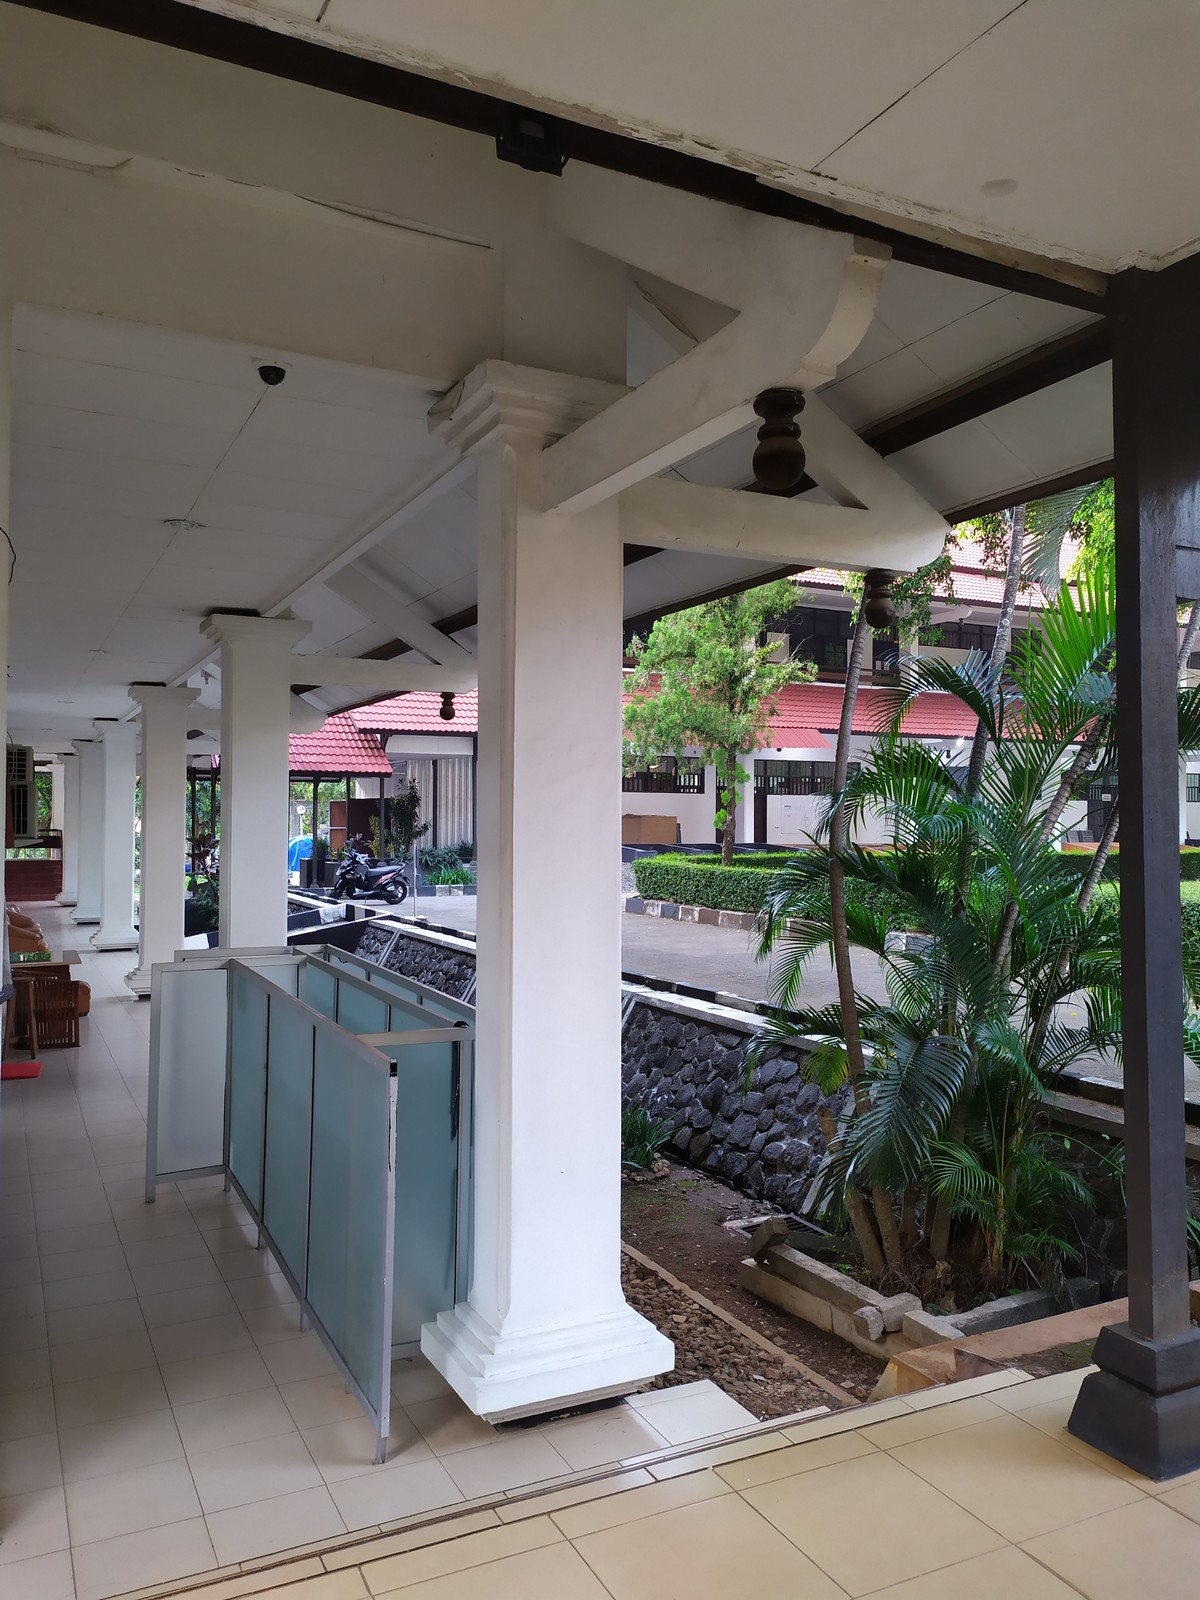concrete beam: (604, 465, 910, 581), (279, 641, 439, 703)
concrete column: (461, 454, 645, 1335), (216, 644, 301, 957), (132, 700, 194, 965)
